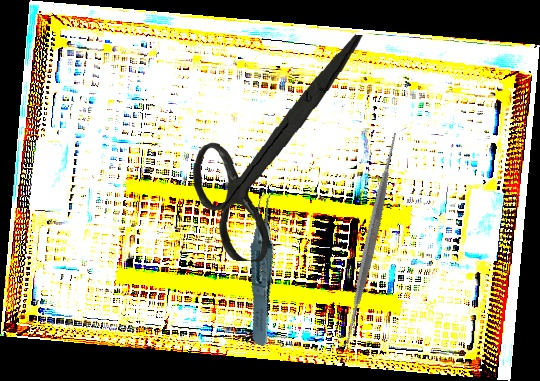Iris Scissors: (188, 26, 366, 267)
Spatula Surgical: (259, 127, 483, 350)
Tissue Forceps: (221, 186, 309, 347)
